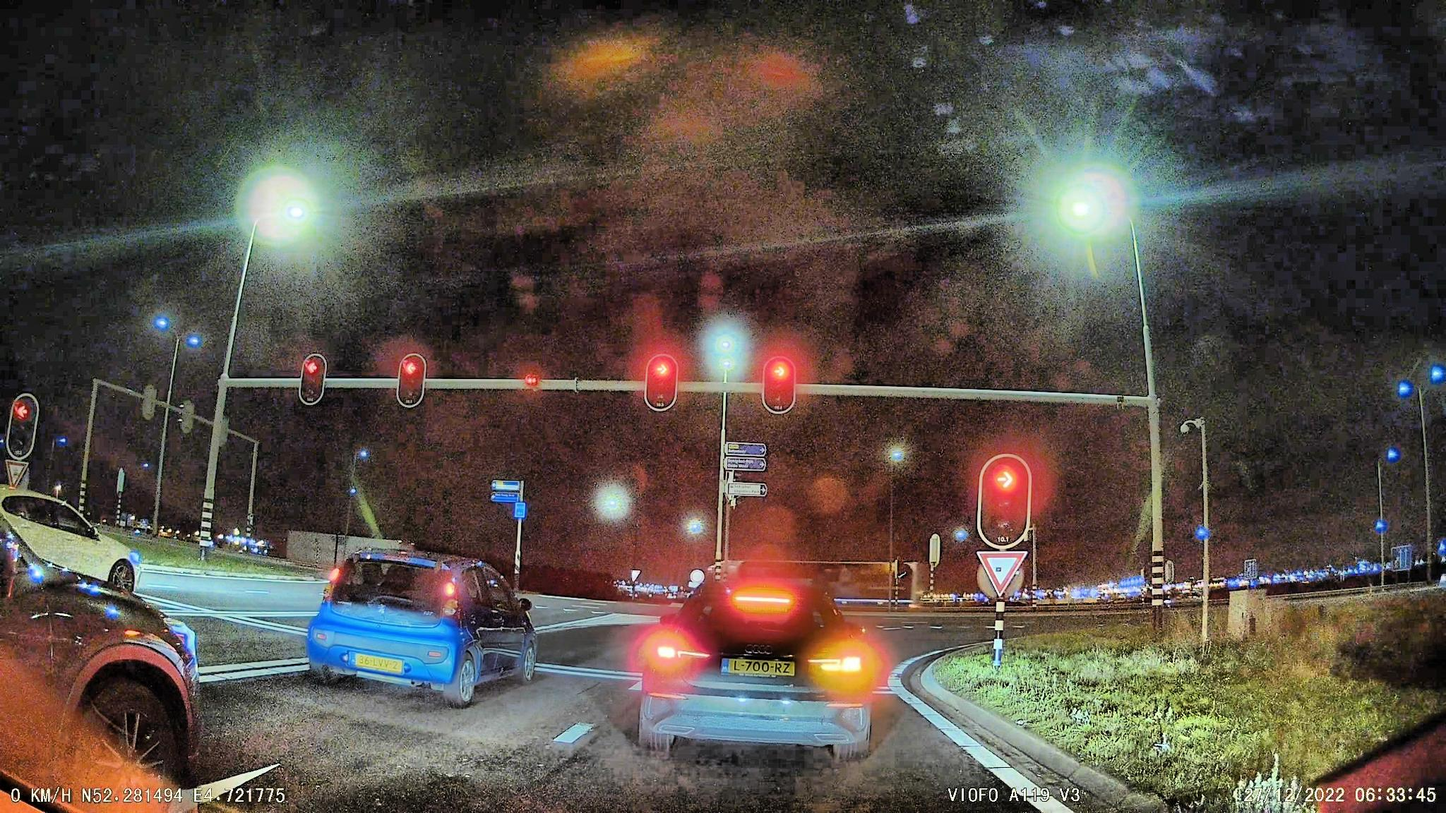Roads: (142, 576, 1040, 813)
